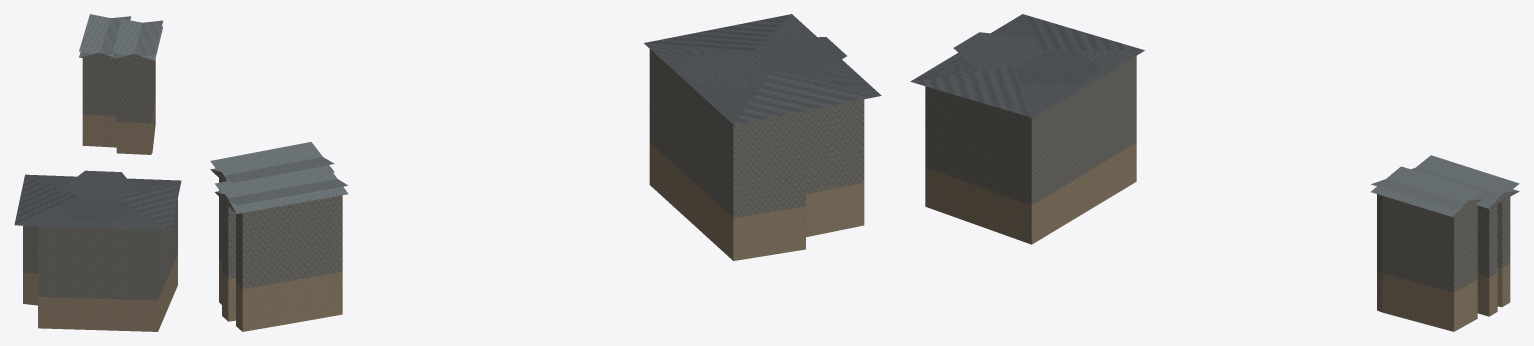
Rendered from bld_c-23_11_548.gltf.
3 views of the same model, side by side, from view 1: azimuth 30°, elevation 25°; view 2: azimuth 150°, elevation 25°; view 3: azimuth 270°, elevation 25° (orthographic). The views are drawn at different scales.
Visible parts, largest first — view 1: bld_c-23_11_548; view 2: bld_c-23_11_548; view 3: bld_c-23_11_548.
Part boxes in pixels (bbox=[...]): bld_c-23_11_548: bbox=[14, 14, 181, 331]; bld_c-23_11_548: bbox=[210, 14, 881, 331]; bld_c-23_11_548: bbox=[910, 14, 1519, 331].
Bounding box in the file's own units: 54.23 × 17.7 × 71.48.
Materials: 5 (5 with a texture image).
